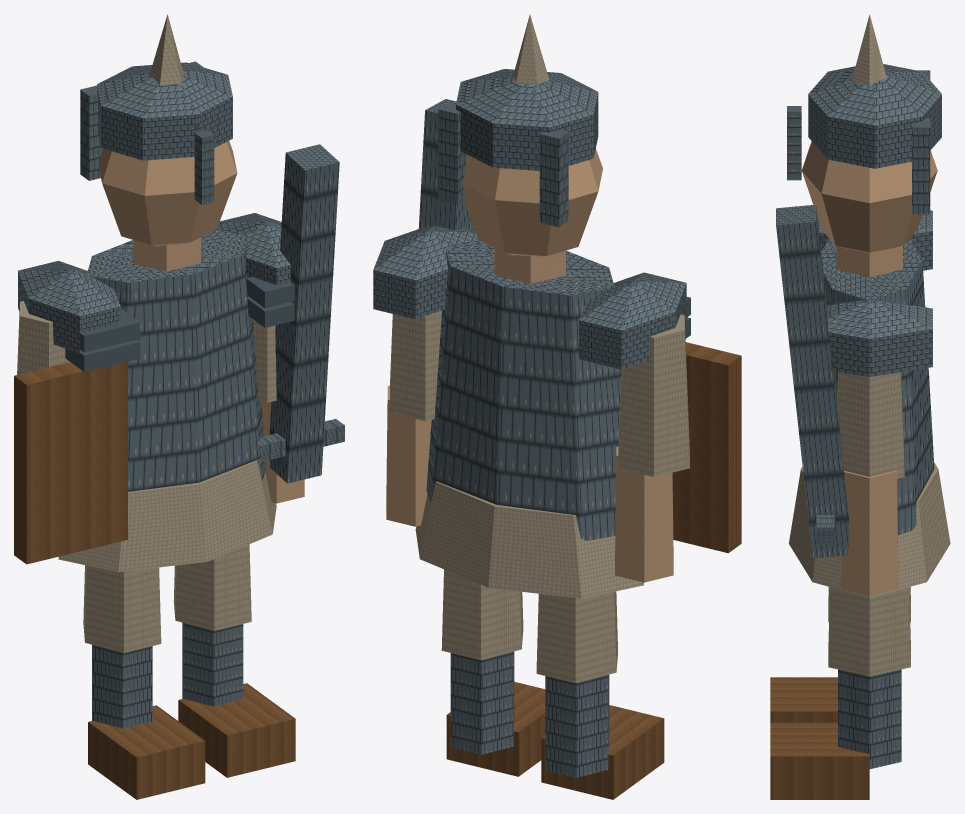
Rendered from unit-SWORD-lod1.glb.
3 renders of one model, left to right at view 1: azimuth 30°, elevation 25°; view 2: azimuth 150°, elevation 25°; view 3: azimuth 270°, elevation 25°, orthographic. The views are drawn at different scales.
Size of the model in its own units: 0.207 by 0.448 by 0.098.
Materials: 1 (1 with a texture image).
